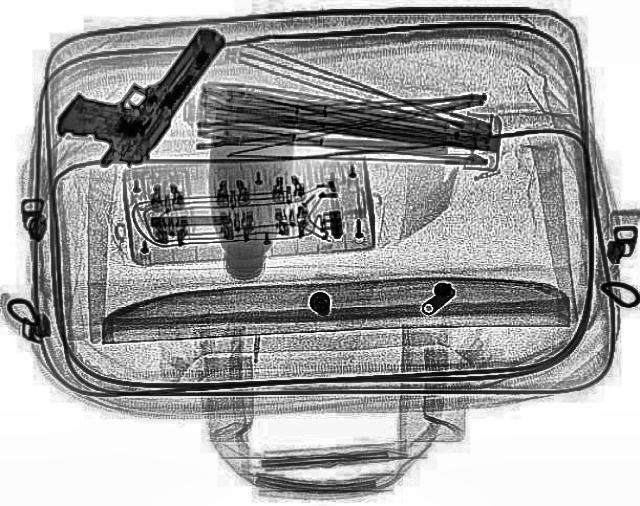Gun: (39, 1, 235, 177)
